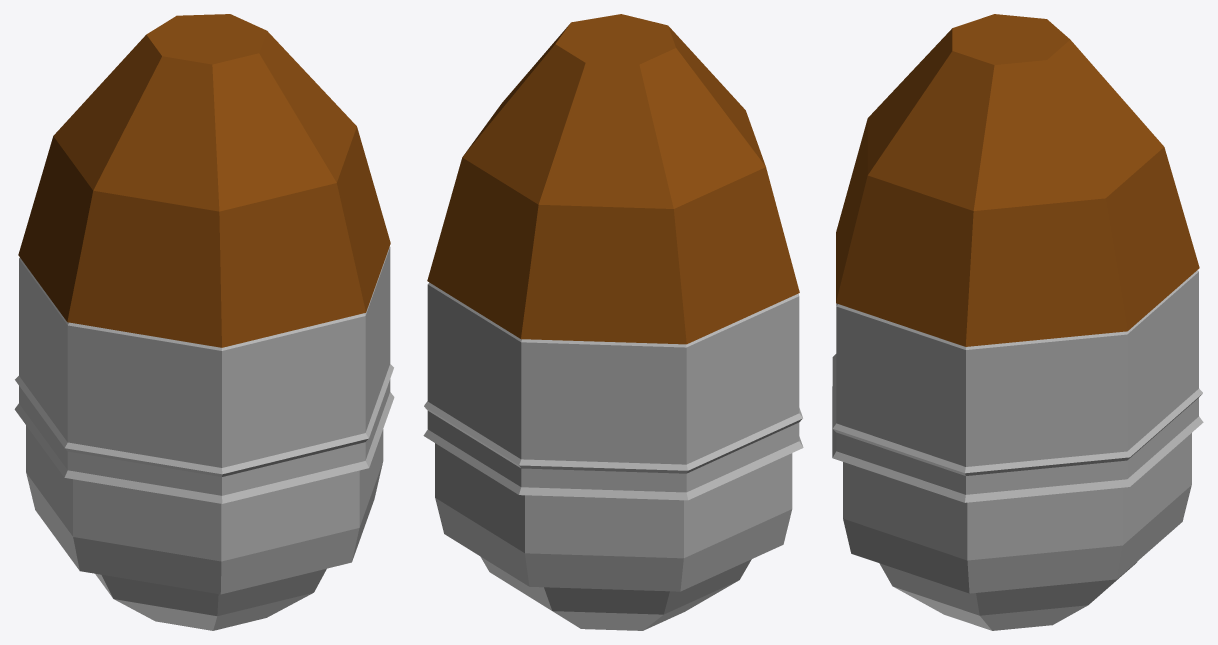
The picture shows the model from 3 angles, left to right: view 1: azimuth 30°, elevation 25°; view 2: azimuth 150°, elevation 25°; view 3: azimuth 270°, elevation 25°; orthographic projection.
Parts seen in each view (by area): view 1: HE; view 2: HE; view 3: HE.
Boxes of the visible parts, left/top/right/bottom form: HE: left=14, top=14, right=394, bottom=630; HE: left=423, top=14, right=803, bottom=630; HE: left=832, top=14, right=1203, bottom=630.
Size of the model in its own units: 3.71 by 6.18 by 3.61.
